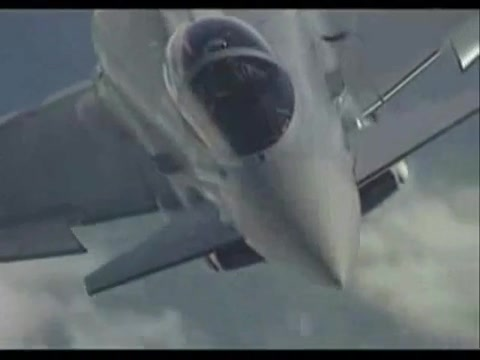aeroplane: (2, 9, 480, 301)
